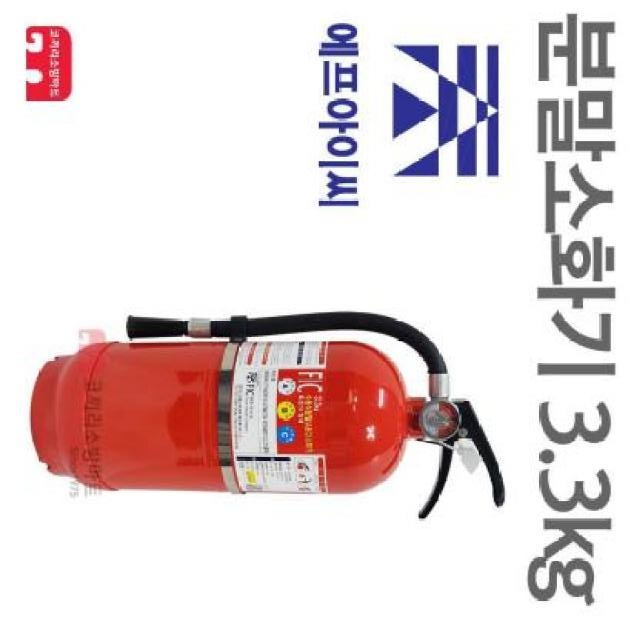fire extinguisher: (29, 311, 506, 520)
